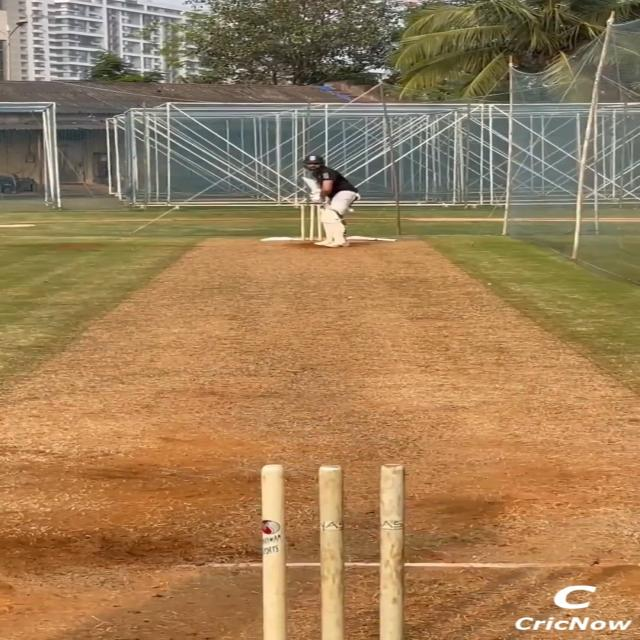stump: (254, 462, 406, 640), (300, 204, 323, 243)
